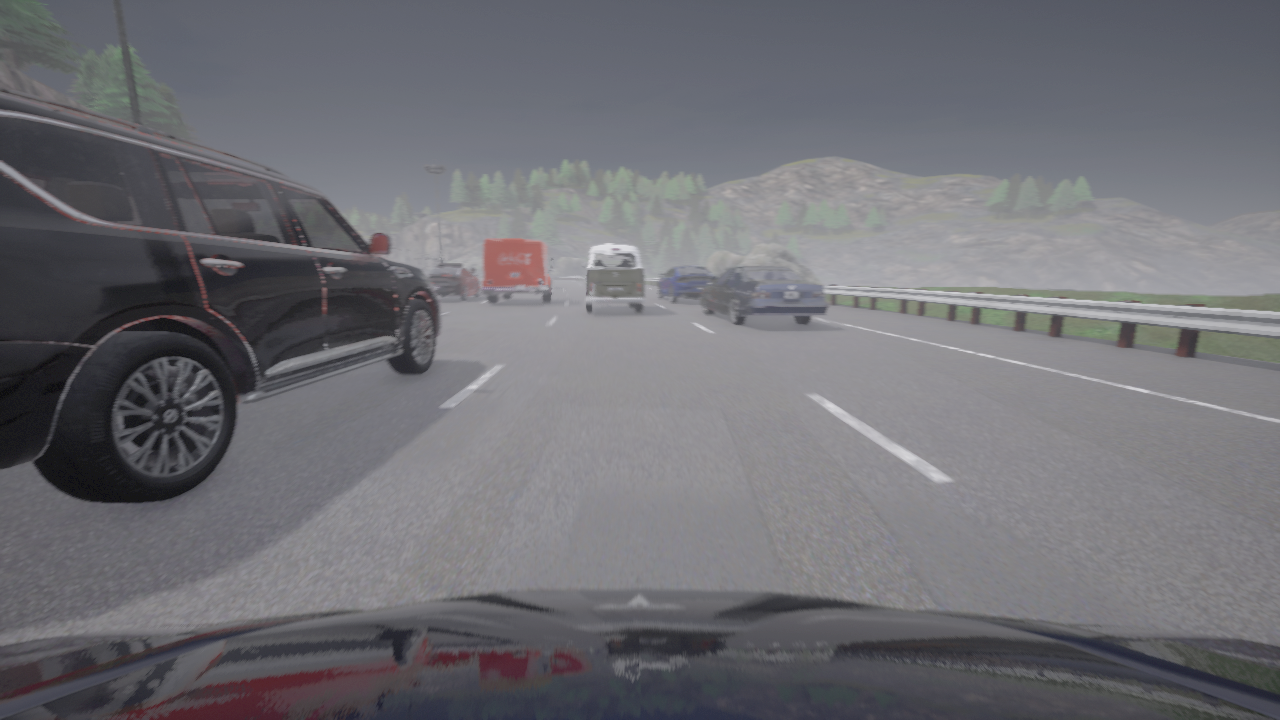cyclist: (0, 588, 1279, 719), (700, 265, 829, 325), (483, 239, 554, 303), (582, 244, 645, 313), (658, 265, 718, 302), (426, 263, 479, 300), (549, 270, 550, 275)
